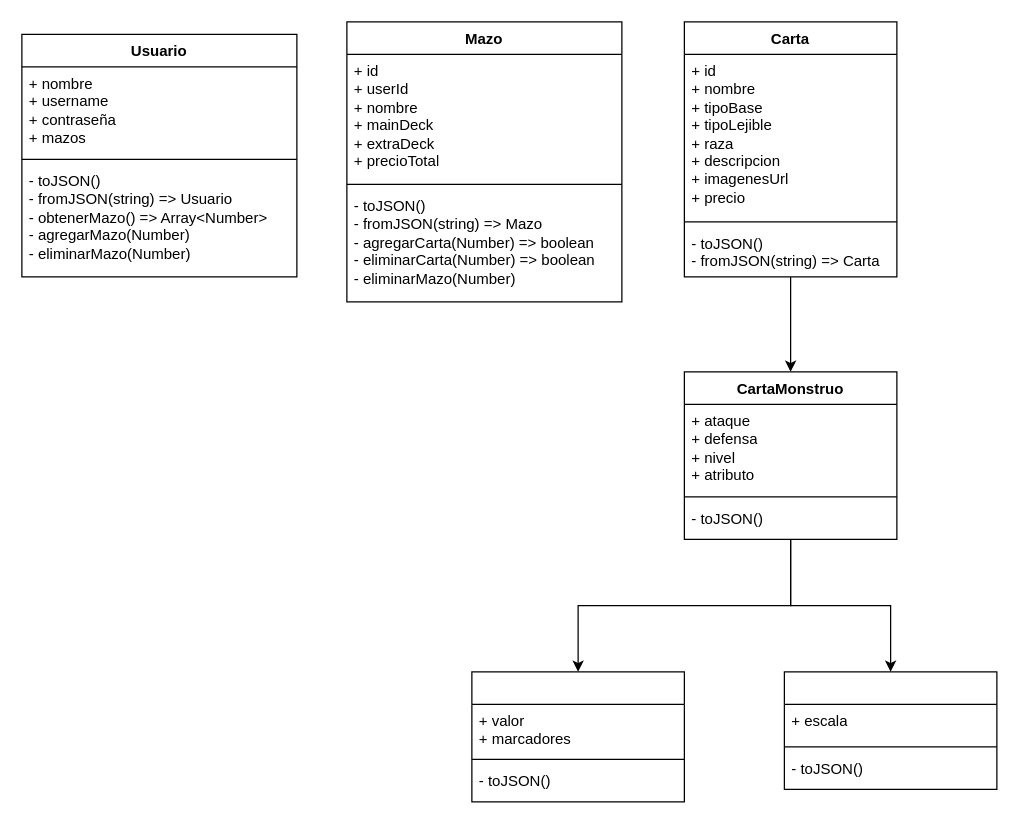
Some shapes in this 1019 by 828 pixel diagram are drawn without their labels. The box of each missing label's shape, as (x1, y1, x2, y2) in pixels:
CartaLink: (471, 671, 684, 802)
CartaPendulo: (783, 671, 997, 789)
